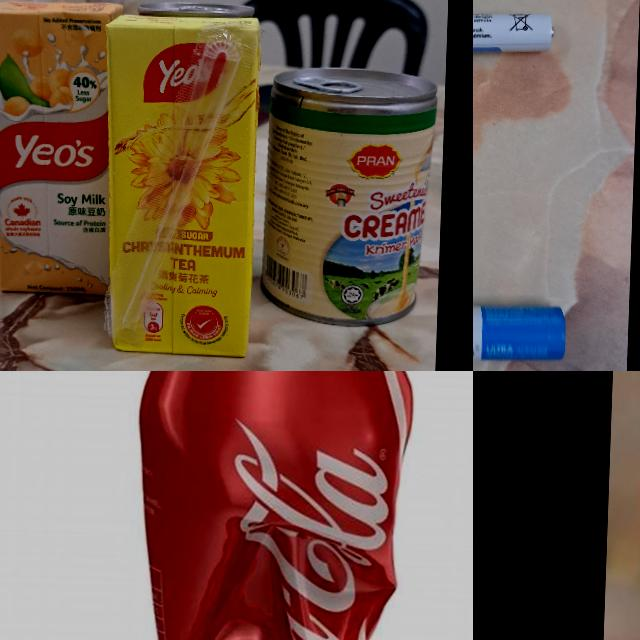bateria: (473, 298, 568, 366), (473, 6, 557, 59)
caixinha: (94, 11, 262, 360), (0, 0, 124, 295)
lata: (123, 371, 422, 640), (262, 62, 438, 326)
